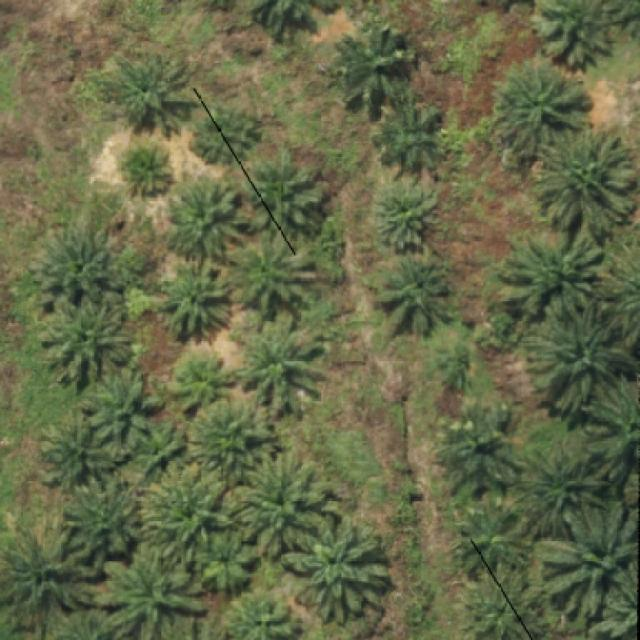Kelapa_Sawit: (523, 296, 635, 415), (534, 497, 640, 614), (282, 513, 390, 625), (492, 50, 596, 165), (234, 447, 338, 558), (536, 120, 636, 234), (1, 523, 101, 637), (95, 540, 207, 640), (511, 435, 614, 540), (139, 459, 236, 566), (496, 232, 606, 323), (233, 311, 324, 417), (39, 292, 132, 392), (434, 400, 526, 494), (99, 51, 196, 137), (37, 410, 132, 492), (232, 229, 319, 316), (29, 226, 112, 317), (59, 477, 139, 571), (334, 24, 417, 114), (459, 562, 552, 640), (192, 400, 279, 483), (243, 149, 325, 233), (169, 177, 249, 261), (456, 491, 530, 580), (379, 251, 453, 337), (370, 91, 448, 172), (86, 371, 162, 454), (159, 257, 235, 338), (169, 351, 248, 412), (377, 178, 441, 252), (195, 524, 258, 594), (194, 105, 264, 166), (133, 419, 185, 479), (124, 143, 173, 194)
